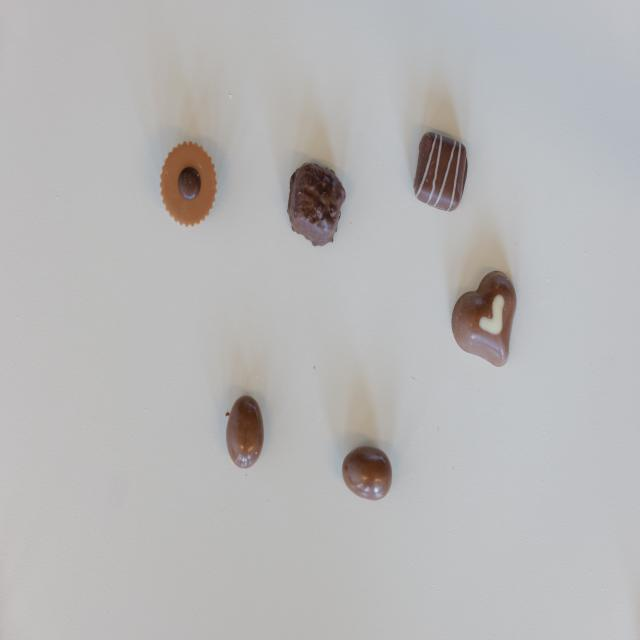Jelly_Milk: (226, 396, 264, 470), (341, 448, 392, 502)
Noblesse: (160, 142, 217, 228)
Passion_au_lait: (452, 271, 520, 367)
Stracciatella: (412, 130, 470, 212)
Tentation_noir: (286, 162, 347, 246)
